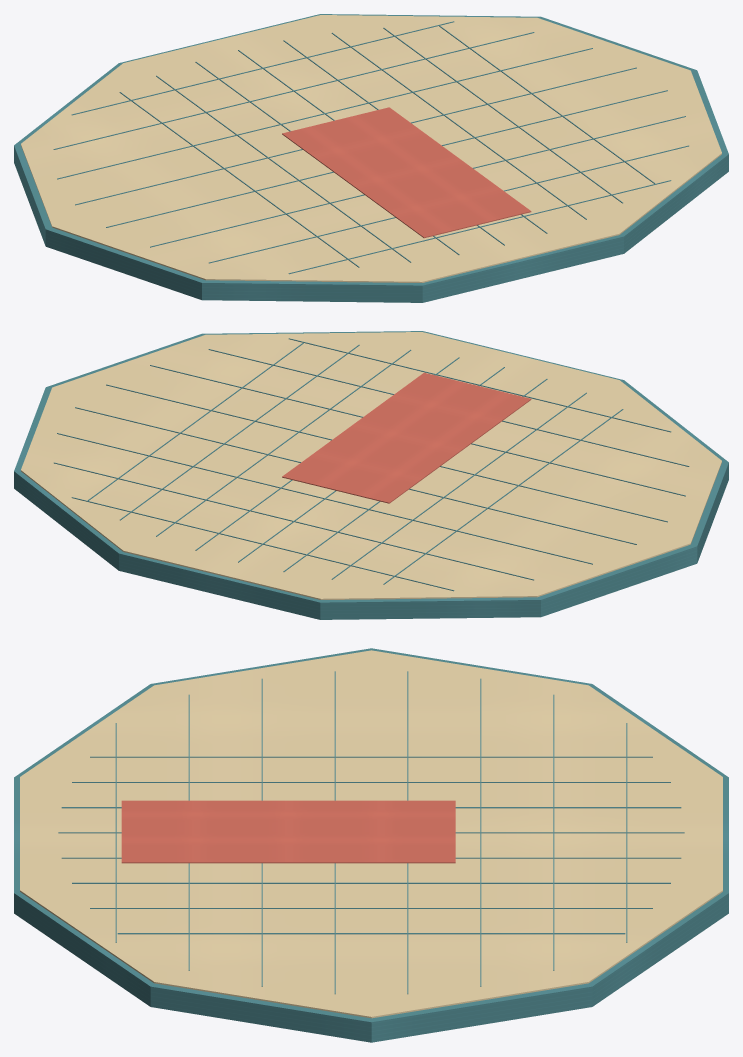
File: atlas100-s076-a07.lod1.glb
3 renders of one model, top to bottom at view 1: azimuth 30°, elevation 25°; view 2: azimuth 150°, elevation 25°; view 3: azimuth 270°, elevation 25°, orthographic. The views are drawn at different scales.
Visible parts, largest first — view 1: atlas100-s076-a07:part-001, atlas100-s076-a07:part-000, atlas100-s076-a07:part-021, atlas100-s076-a07:part-015, atlas100-s076-a07:part-014, atlas100-s076-a07:part-016, atlas100-s076-a07:part-017, atlas100-s076-a07:part-018, atlas100-s076-a07:part-020, atlas100-s076-a07:part-013, atlas100-s076-a07:part-019, atlas100-s076-a07:part-009 (+3 smaller); view 2: atlas100-s076-a07:part-001, atlas100-s076-a07:part-000, atlas100-s076-a07:part-021, atlas100-s076-a07:part-015, atlas100-s076-a07:part-014, atlas100-s076-a07:part-017, atlas100-s076-a07:part-016, atlas100-s076-a07:part-018, atlas100-s076-a07:part-013, atlas100-s076-a07:part-020, atlas100-s076-a07:part-019, atlas100-s076-a07:part-009 (+3 smaller); view 3: atlas100-s076-a07:part-001, atlas100-s076-a07:part-000, atlas100-s076-a07:part-021, atlas100-s076-a07:part-009, atlas100-s076-a07:part-004, atlas100-s076-a07:part-011.
Part boxes in pixels (x1,y1,x2,y2): atlas100-s076-a07:part-001: (21, 15, 721, 282); atlas100-s076-a07:part-000: (14, 14, 728, 302); atlas100-s076-a07:part-021: (282, 107, 531, 238); atlas100-s076-a07:part-015: (57, 48, 592, 179); atlas100-s076-a07:part-014: (53, 32, 534, 149); atlas100-s076-a07:part-016: (75, 67, 636, 205); atlas100-s076-a07:part-017: (106, 90, 667, 227); atlas100-s076-a07:part-018: (150, 116, 685, 247); atlas100-s076-a07:part-020: (288, 180, 671, 274); atlas100-s076-a07:part-013: (71, 21, 454, 115); atlas100-s076-a07:part-019: (209, 145, 688, 263); atlas100-s076-a07:part-009: (331, 32, 586, 219); atlas100-s076-a07:part-001: (21, 332, 721, 599); atlas100-s076-a07:part-000: (14, 331, 728, 619); atlas100-s076-a07:part-021: (282, 372, 531, 503); atlas100-s076-a07:part-015: (57, 433, 592, 564); atlas100-s076-a07:part-014: (54, 462, 533, 580); atlas100-s076-a07:part-017: (106, 384, 667, 522); atlas100-s076-a07:part-016: (75, 407, 636, 544); atlas100-s076-a07:part-018: (150, 365, 685, 496); atlas100-s076-a07:part-013: (71, 497, 454, 591); atlas100-s076-a07:part-020: (288, 338, 671, 432); atlas100-s076-a07:part-019: (208, 349, 689, 466); atlas100-s076-a07:part-009: (156, 349, 411, 536); atlas100-s076-a07:part-001: (20, 650, 722, 1018); atlas100-s076-a07:part-000: (14, 648, 728, 1042); atlas100-s076-a07:part-021: (121, 800, 455, 863); atlas100-s076-a07:part-009: (72, 882, 670, 883); atlas100-s076-a07:part-004: (90, 756, 652, 757); atlas100-s076-a07:part-011: (117, 933, 625, 934).
Size of the model in its own units: 13.35 by 0.404 by 10.78.
3 materials, 3 textured.
